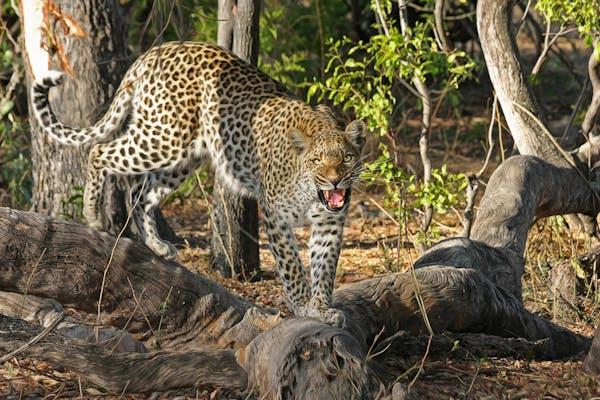Leopard: (30, 39, 365, 326)
